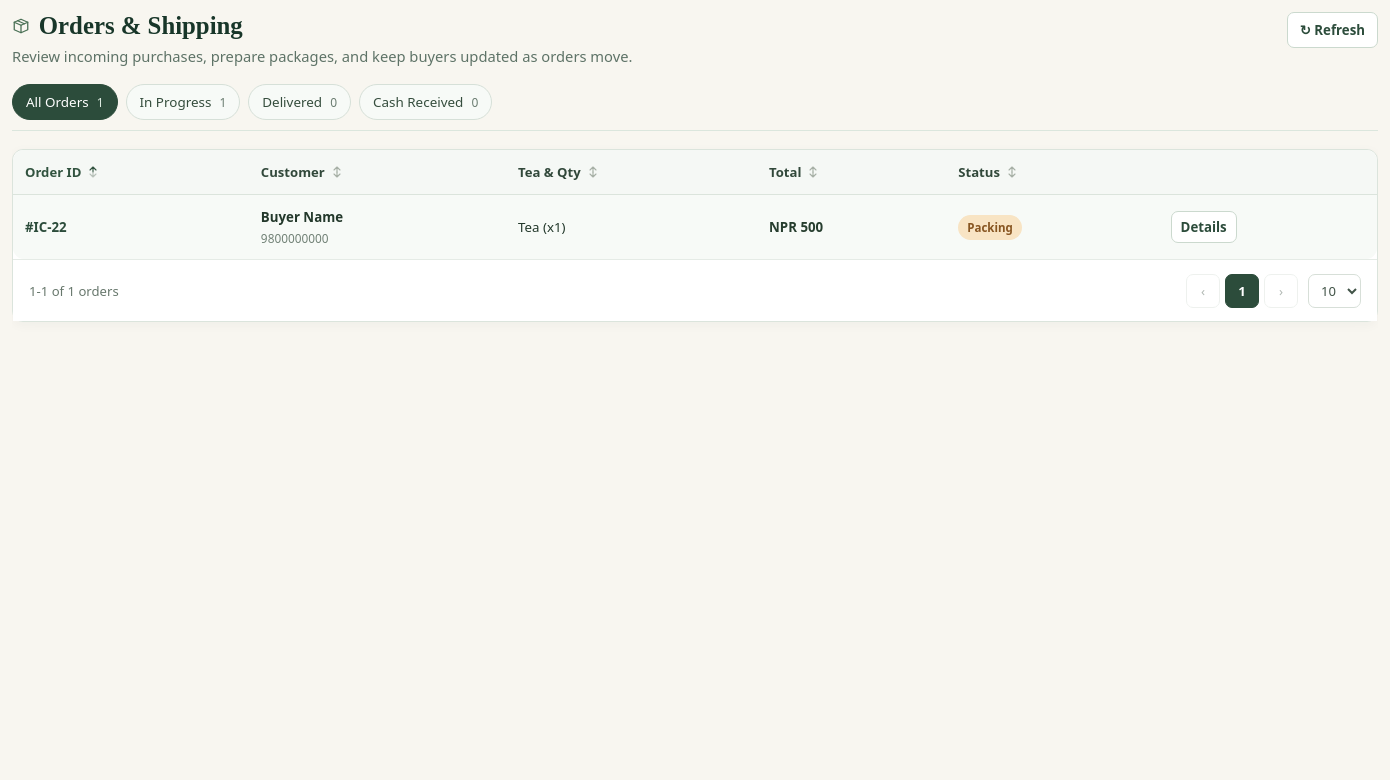
Test: selecting a driver generates and saves an order-specific tracking number
Later steps or results of the test are not shown.
Click the button with aria-label "View tracking for order 22": (1204, 227) [1171,211,1237,243]
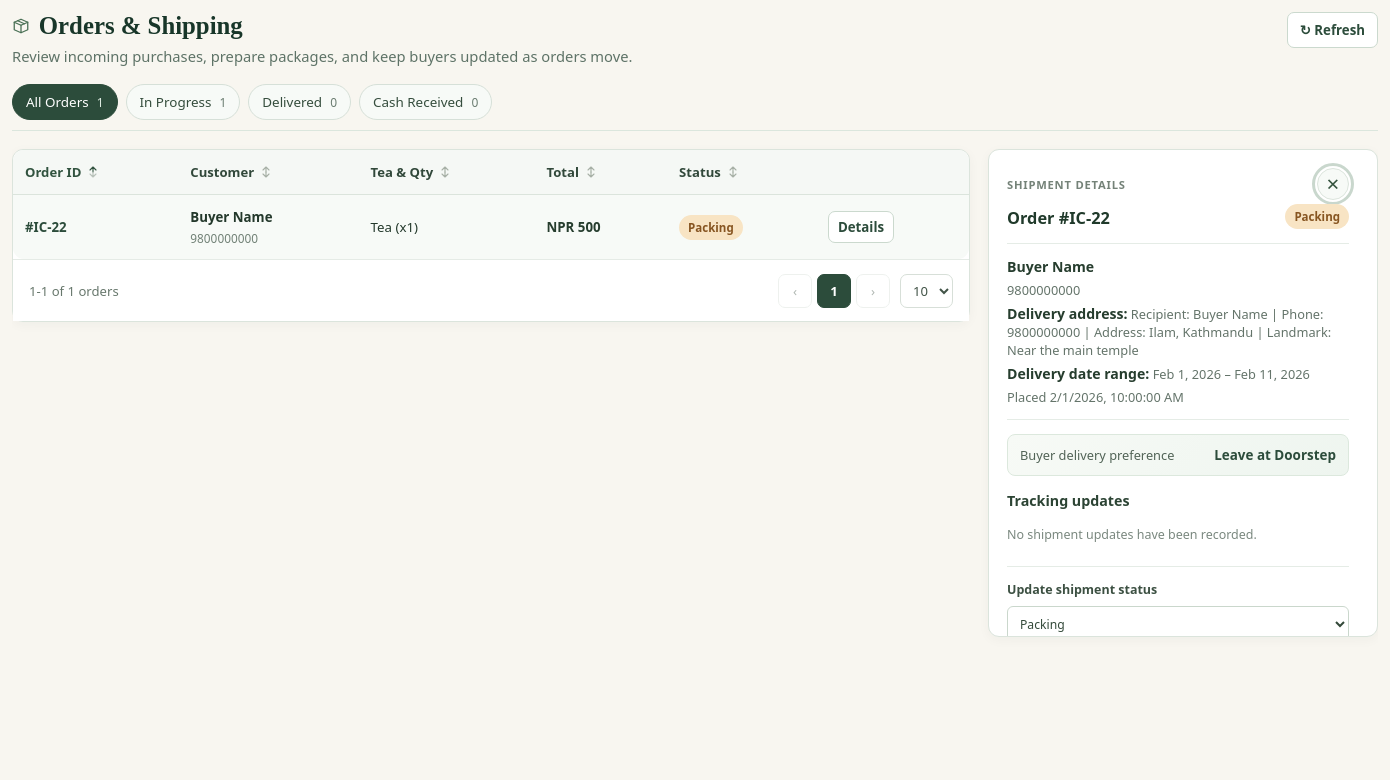
Expected: the text "Landmark: Near the main temple" is shown, [1007,305,1331,359]
